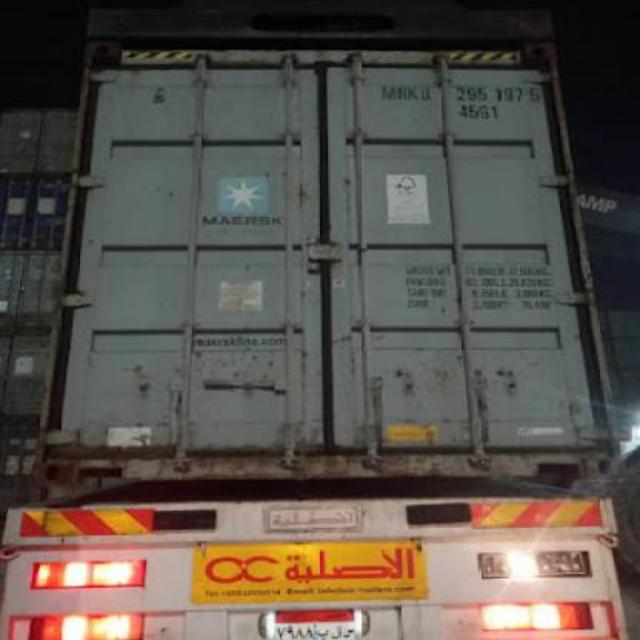1: (491, 86, 504, 100)
2: (454, 84, 468, 100)
5: (476, 86, 489, 102), (530, 85, 540, 105)
7: (516, 86, 524, 104)
9: (502, 86, 514, 102), (468, 84, 476, 100)
K: (408, 86, 420, 102)
M: (380, 86, 398, 102)
R: (396, 86, 408, 102)
U: (421, 84, 434, 106)
